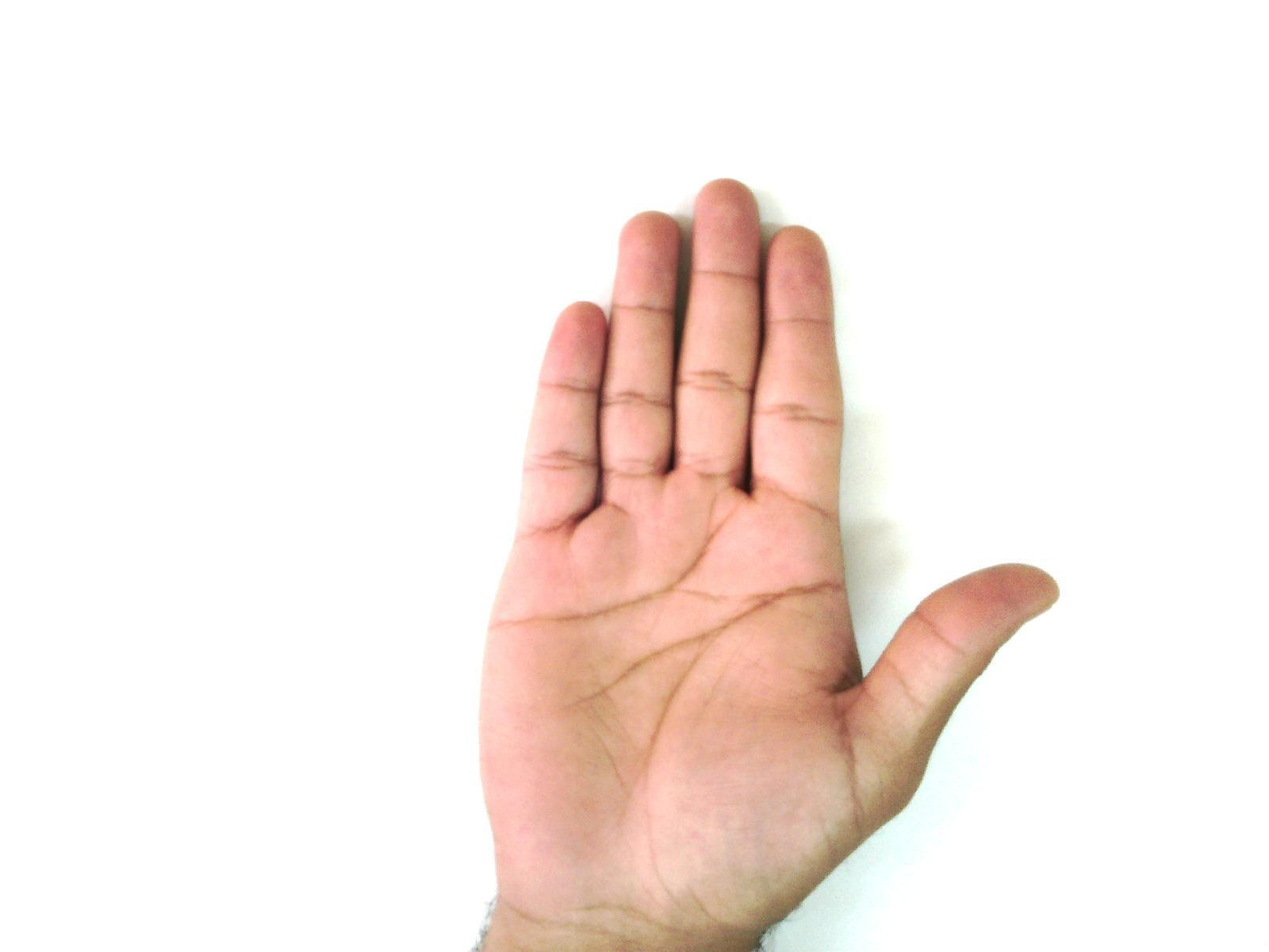open_palm: (471, 177, 1062, 950)
